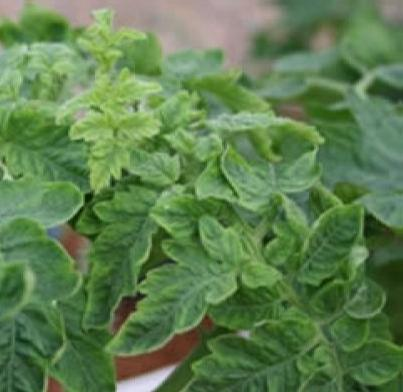Tomato leaf mosaic virus: (108, 241, 260, 361), (84, 180, 161, 325), (168, 318, 317, 392), (0, 97, 107, 192), (295, 196, 368, 287), (0, 175, 87, 234), (143, 186, 233, 236), (217, 142, 282, 211), (0, 312, 52, 392), (342, 336, 403, 389)
